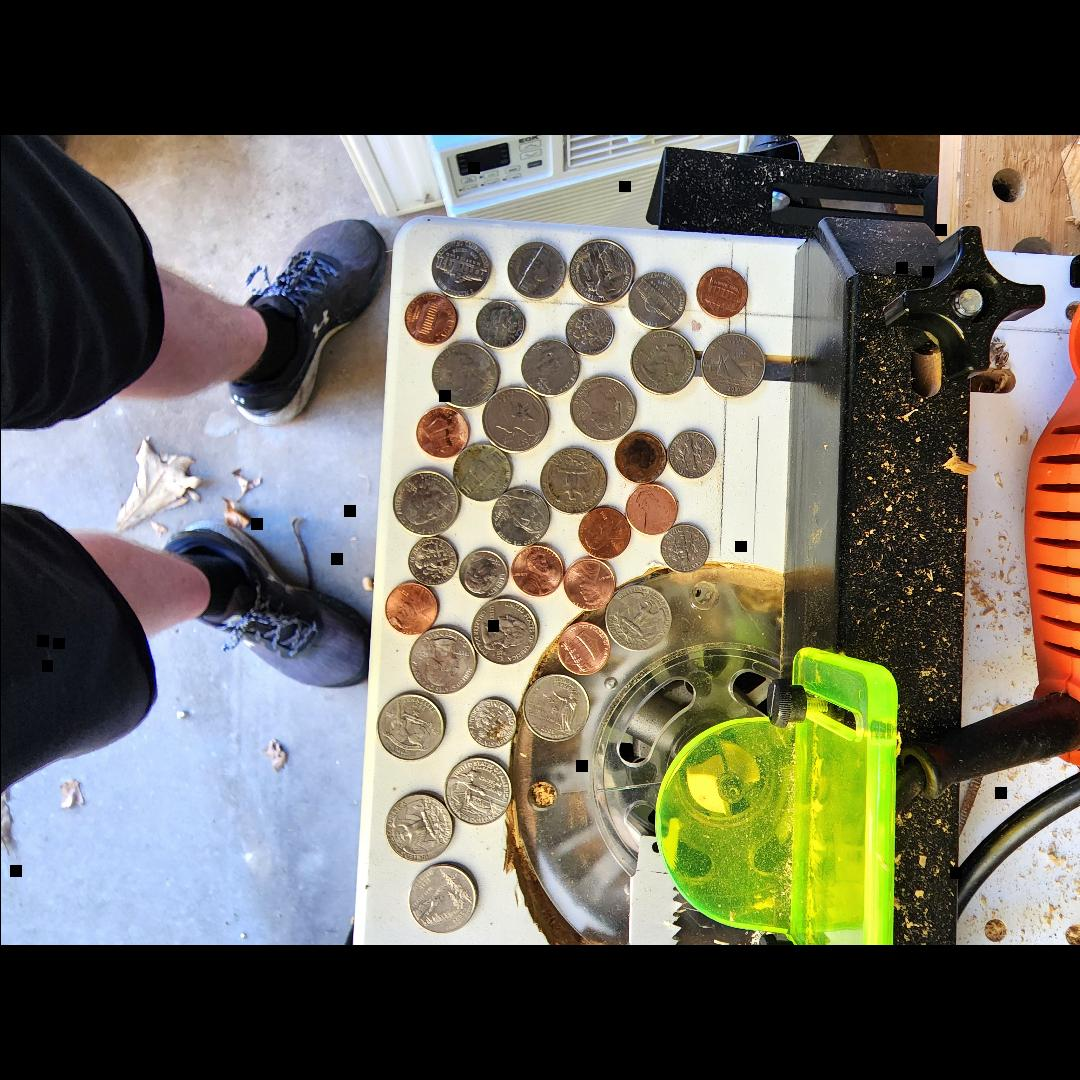Dime: (468, 698, 516, 748), (409, 536, 455, 586), (669, 429, 714, 479), (460, 550, 506, 598), (566, 307, 612, 355), (476, 300, 524, 346), (661, 524, 707, 572)
Nickel: (508, 243, 564, 301), (492, 488, 548, 545), (431, 242, 490, 294), (628, 272, 684, 326), (454, 447, 510, 498), (525, 340, 577, 393)
Penny: (557, 623, 609, 676), (416, 406, 468, 458), (625, 484, 677, 536), (696, 266, 747, 318), (565, 556, 614, 610), (386, 582, 436, 634), (405, 294, 457, 344), (614, 433, 664, 483), (579, 508, 628, 558), (513, 545, 561, 596)
Quarter: (410, 864, 475, 932), (444, 757, 510, 823), (699, 331, 765, 396), (410, 629, 476, 693), (482, 387, 548, 451), (386, 794, 450, 860), (522, 676, 587, 740), (568, 240, 632, 304), (630, 331, 694, 395), (472, 600, 536, 664), (393, 472, 459, 534), (379, 696, 444, 758), (570, 376, 634, 438), (542, 450, 604, 514), (432, 346, 498, 406), (606, 587, 668, 649)
